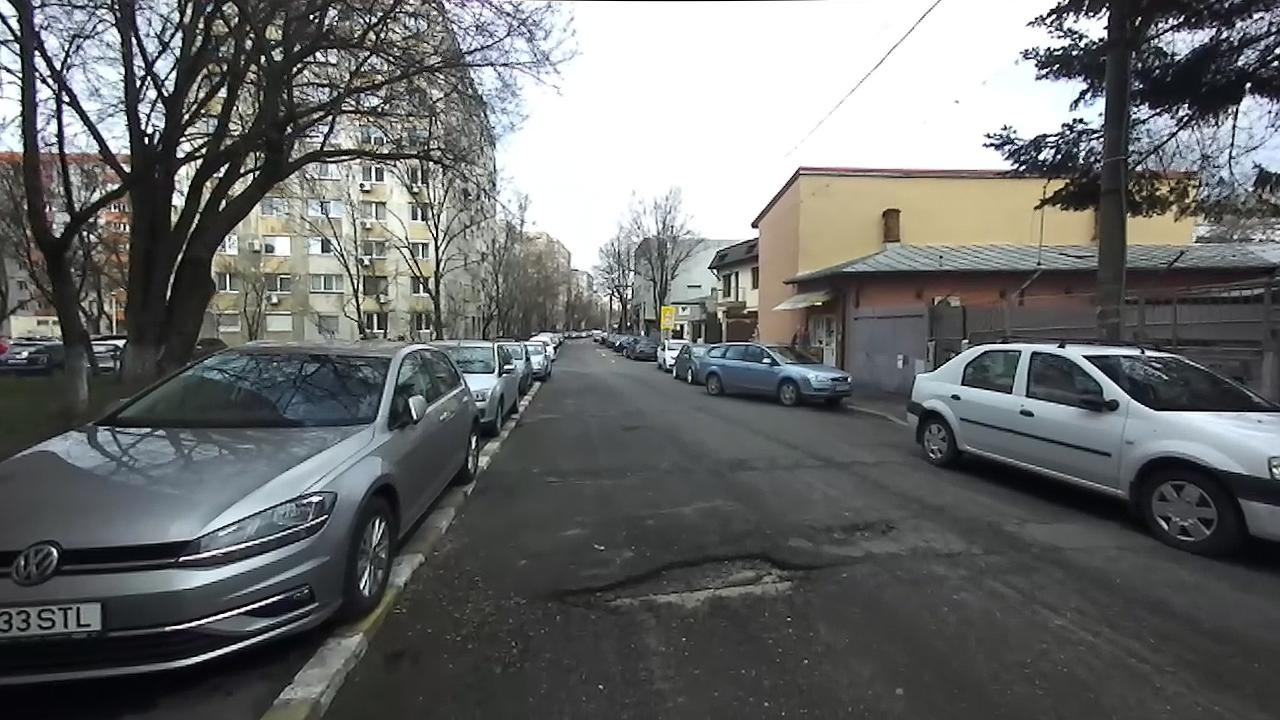pothole: (542, 545, 833, 612), (814, 512, 906, 543), (542, 474, 590, 486)
